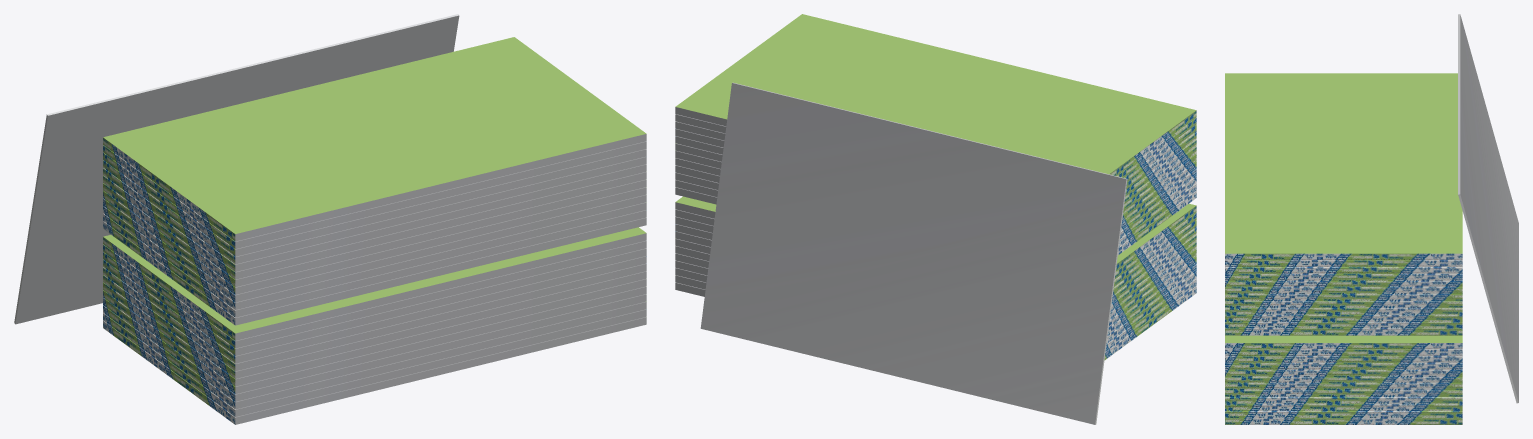
File: gypsum(3).glb
3 renders of one model, left to right at view 1: azimuth 30°, elevation 25°; view 2: azimuth 150°, elevation 25°; view 3: azimuth 270°, elevation 25°, orthographic. The views are drawn at different scales.
Visible parts, largest first — view 1: Cube.002, Cube, Cube.001; view 2: Cube.001, Cube.002, Cube; view 3: Cube.002, Cube, Cube.001.
Part boxes in pixels (x1,y1,x2,y2): Cube.002: (103,37,646,325); Cube: (103,227,646,424); Cube.001: (14,14,459,324); Cube.001: (700,82,1127,424); Cube.002: (675,14,1196,255); Cube: (675,196,1196,360); Cube.002: (1225,73,1462,335); Cube: (1225,335,1462,424); Cube.001: (1458,14,1518,403).
Size of the model in its own units: 4.09 by 1.94 by 2.47.
Materials: 1 (1 with a texture image).
